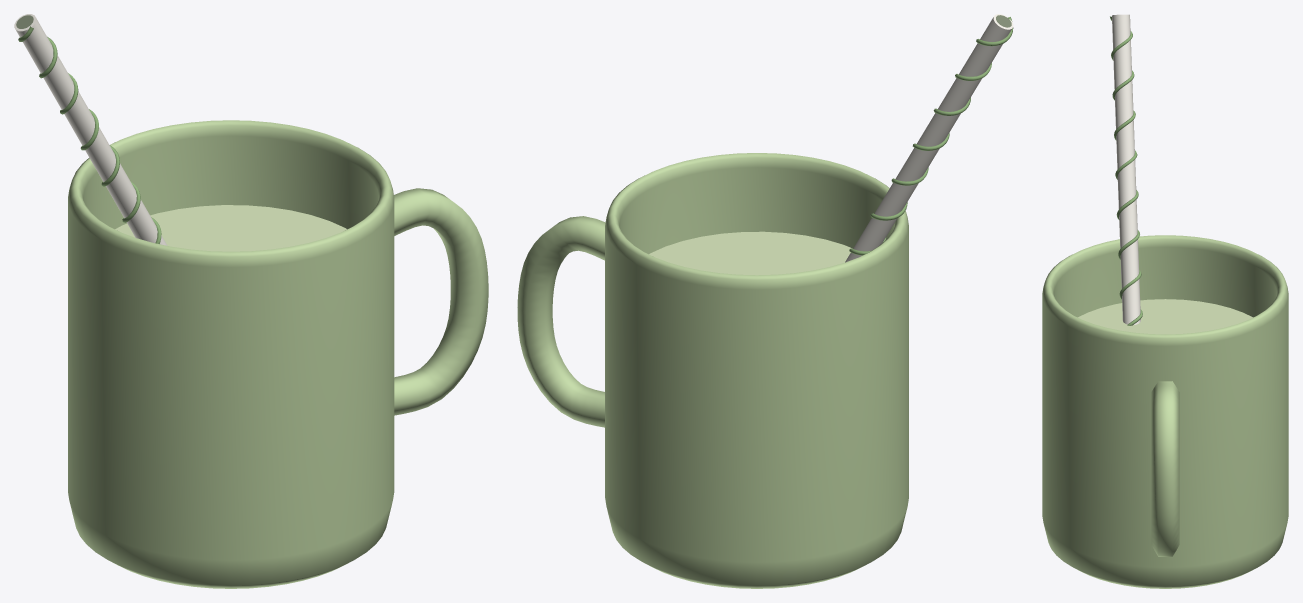
The model's file is tasse.glb.
3 views of the same model, side by side, from view 1: azimuth 30°, elevation 25°; view 2: azimuth 150°, elevation 25°; view 3: azimuth 270°, elevation 25° (orthographic). The views are drawn at different scales.
Visible parts, largest first — view 1: tasse; view 2: tasse; view 3: tasse.
Boxes of the visible parts, left/top/right/bottom form: tasse: left=14, top=14, right=488, bottom=588; tasse: left=517, top=14, right=1013, bottom=588; tasse: left=1042, top=14, right=1288, bottom=588.
Size of the model in its own units: 0.1671 by 0.1895 by 0.095.
